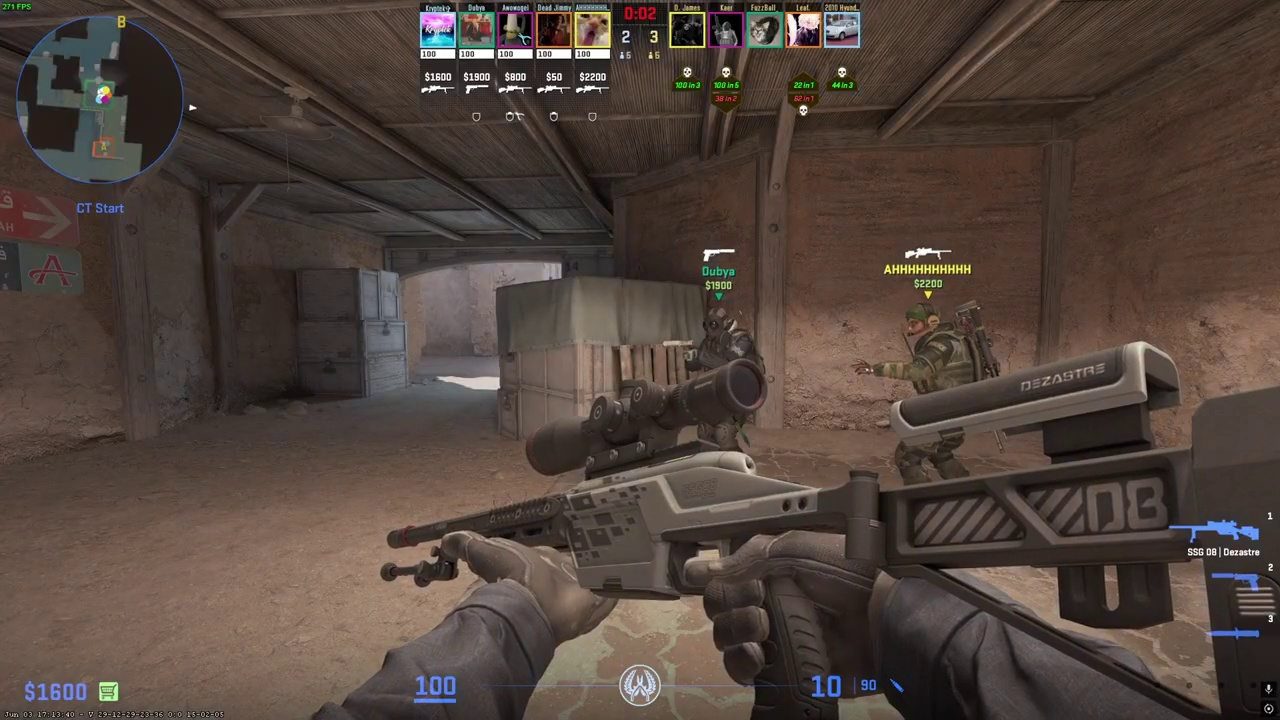CT: (885, 298, 992, 485), (671, 304, 763, 454)
